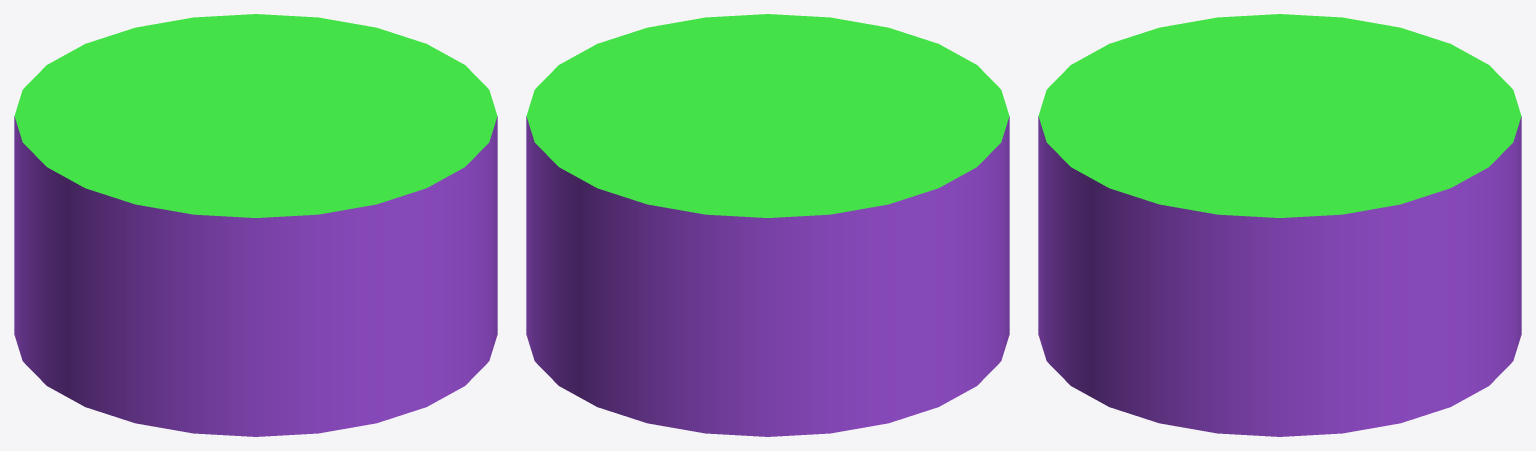
The picture shows the model from 3 angles, left to right: view 1: azimuth 30°, elevation 25°; view 2: azimuth 150°, elevation 25°; view 3: azimuth 270°, elevation 25°; orthographic projection.
Visible parts, largest first — view 1: SketchUp (×2); view 2: SketchUp (×2); view 3: SketchUp (×2).
Part boxes in pixels (x1,y1,x2,y2): SketchUp (×2): (14, 14, 497, 436); SketchUp (×2): (526, 14, 1009, 436); SketchUp (×2): (1038, 14, 1521, 436).
Bounding box in the file's own units: 78.74 × 78.74 × 39.37.
